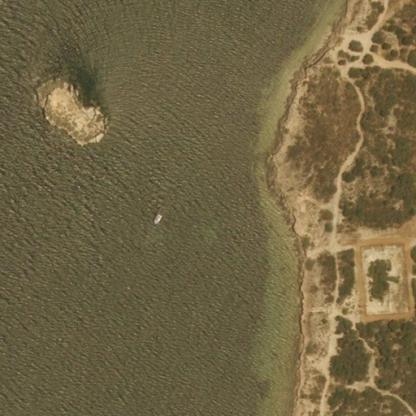ship: (146, 200, 170, 228)
